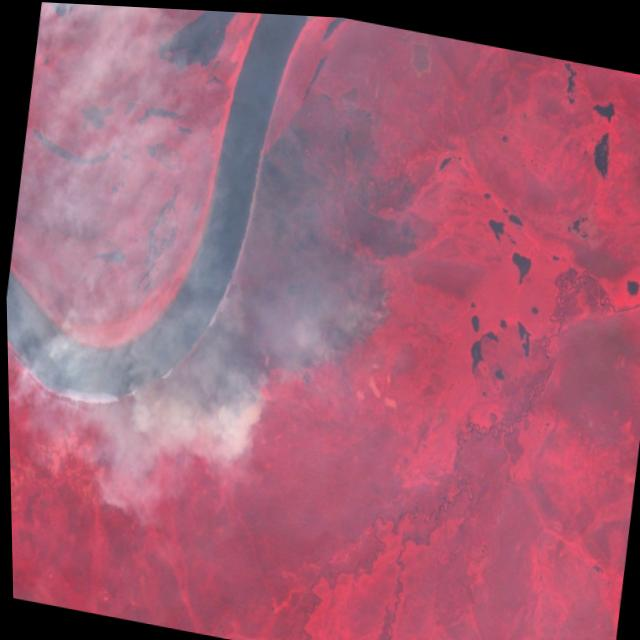fire: (215, 60, 435, 448)
